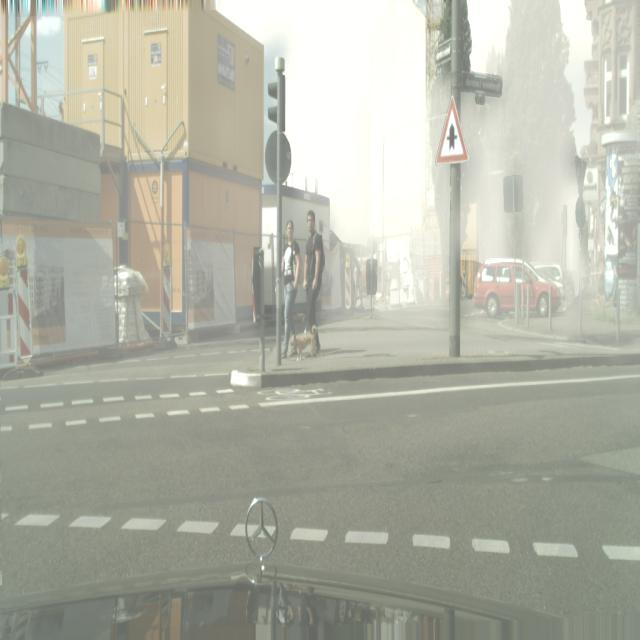bus: (302, 210, 324, 341), (281, 220, 302, 356)
person: (472, 259, 561, 319), (532, 262, 571, 310)
